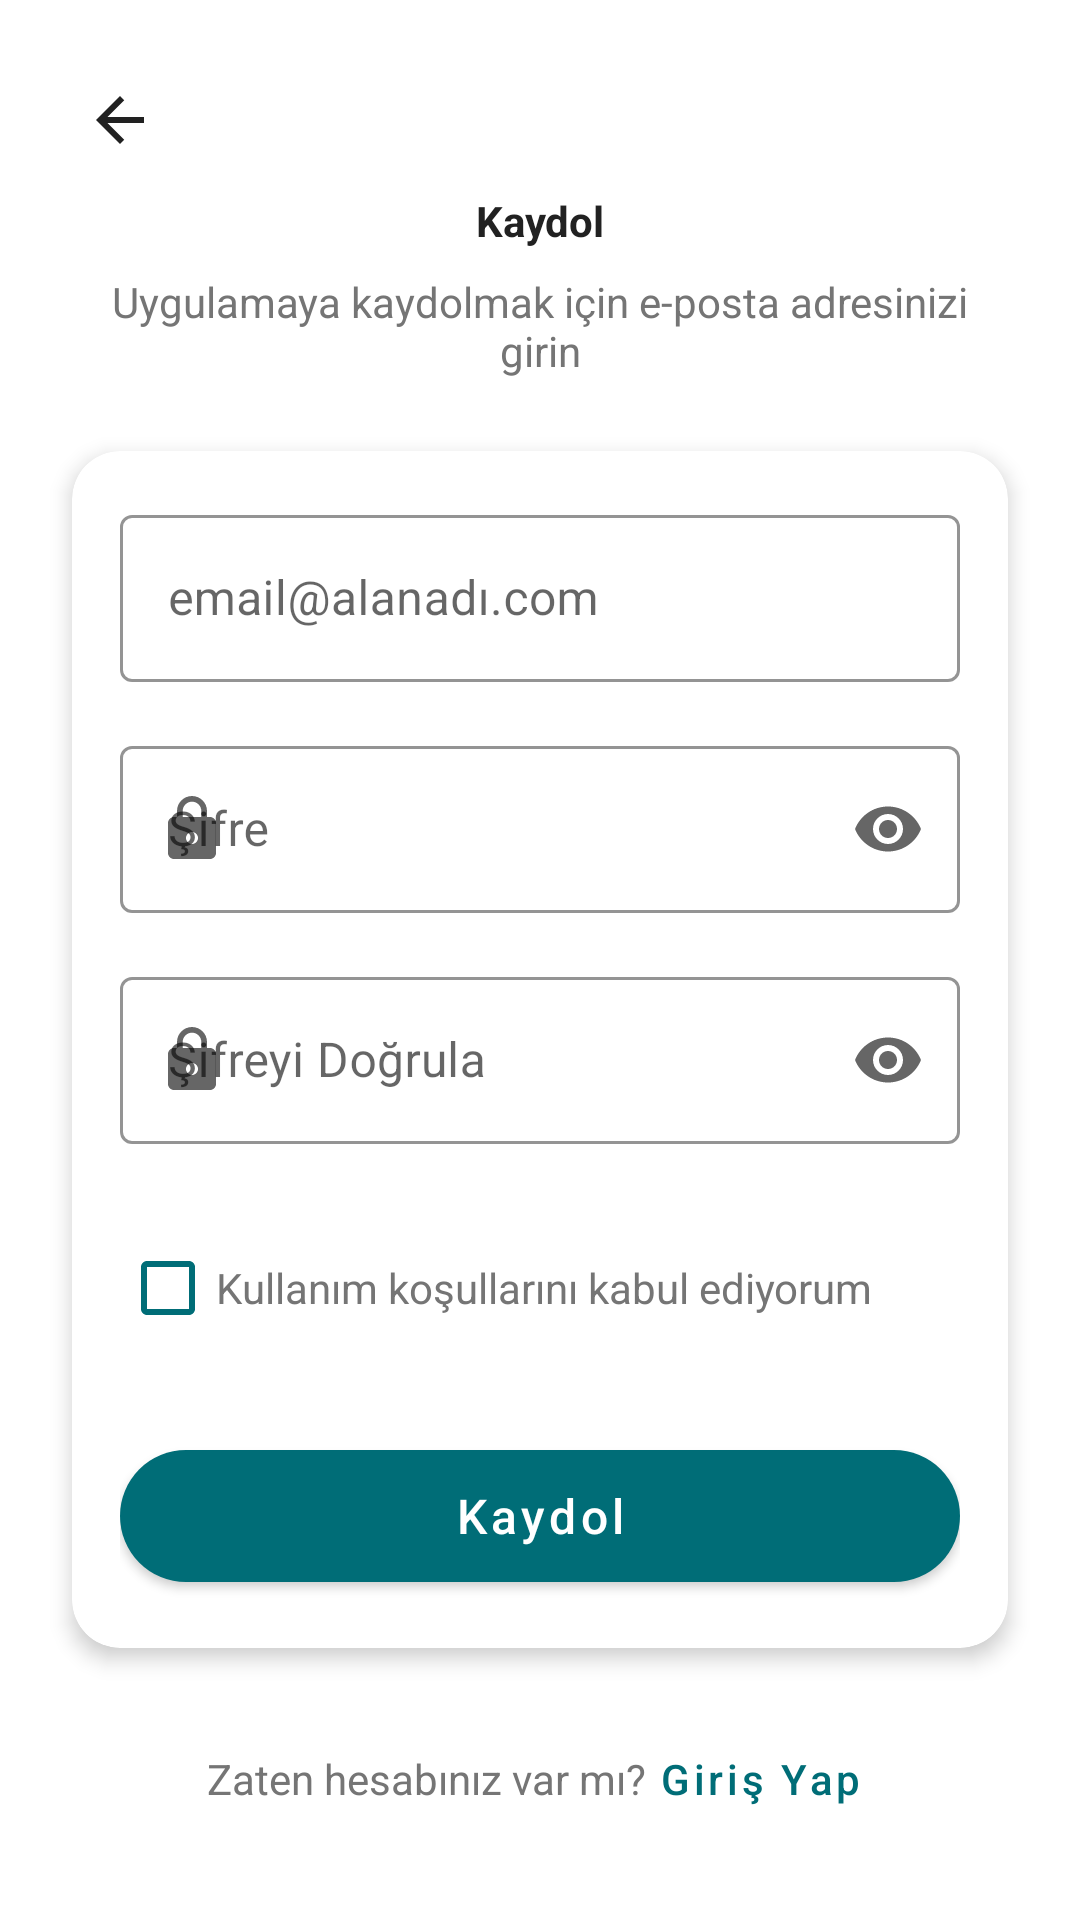

Icons on this 1080px x 1920px Android screen, each with its box as (x1, y1, x2, y2):
Geri: (96, 96, 144, 144)
